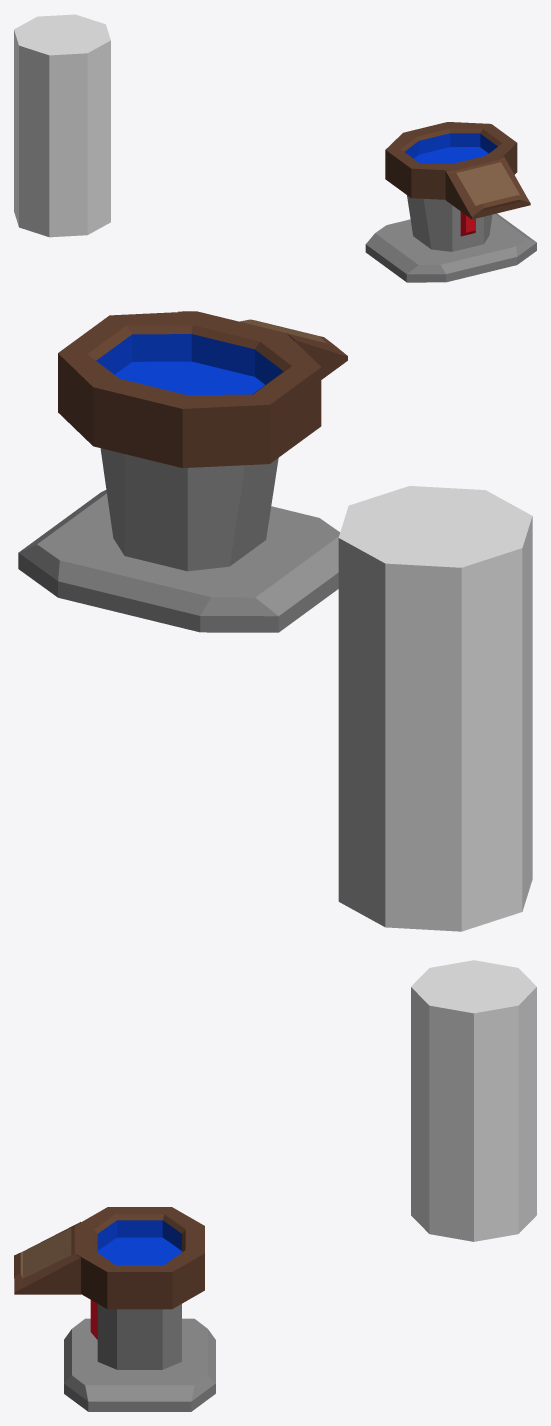
File: SpellHolderThing.fbx
The picture shows the model from 3 angles, top to bottom: view 1: azimuth 30°, elevation 25°; view 2: azimuth 150°, elevation 25°; view 3: azimuth 270°, elevation 25°; orthographic projection. The views are drawn at different scales.
Visible parts, largest first — view 1: Cylinder, Cube; view 2: Cylinder, Cube; view 3: Cylinder, Cube.
Boxes of the visible parts, box(x1,y1,x2,y2) form: Cylinder: box(14, 14, 110, 237); Cube: box(365, 122, 536, 282); Cylinder: box(338, 486, 532, 931); Cube: box(18, 311, 347, 632); Cylinder: box(411, 960, 536, 1241); Cube: box(14, 1207, 215, 1411).
Bounding box in the file's own units: 4.19 × 2 × 4.15.
